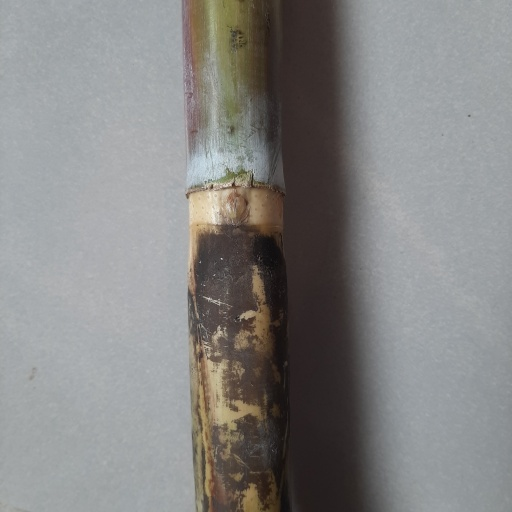Bud: (224, 195, 250, 228)
